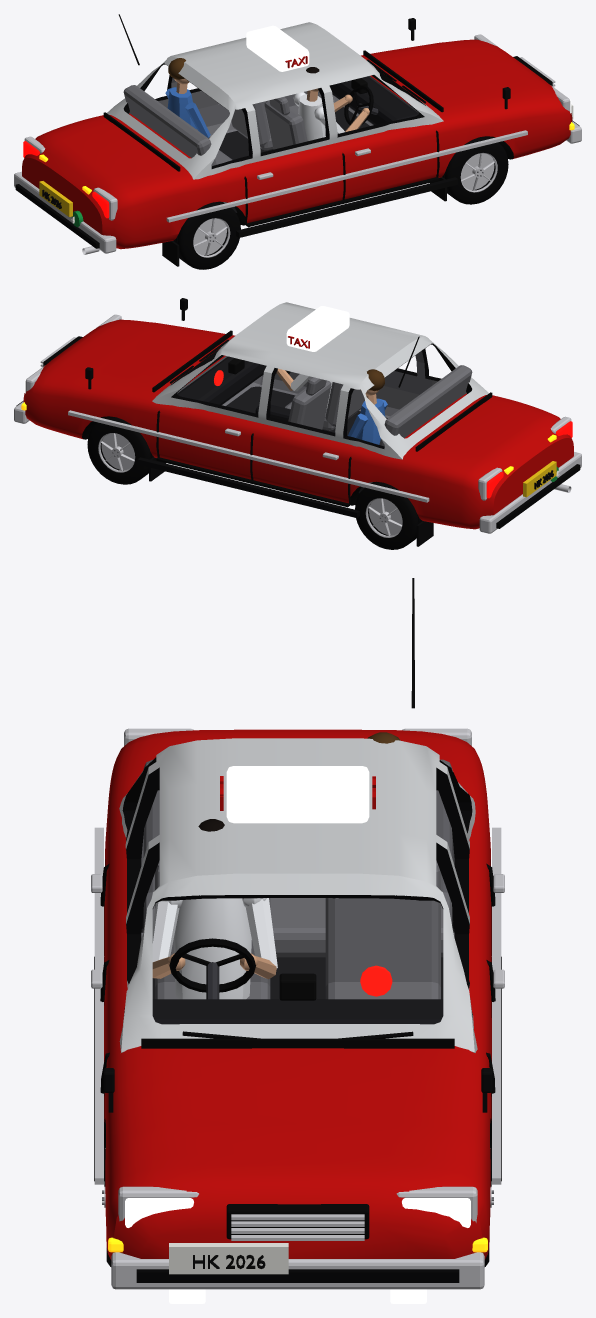
File: taxi.glb
3 renders of one model, top to bottom at view 1: azimuth 30°, elevation 25°; view 2: azimuth 150°, elevation 25°; view 3: azimuth 270°, elevation 25°, orthographic. The views are drawn at different scales.
Parts seen in each view (by area): view 1: body; view 2: body; view 3: body.
Boxes of the visible parts, x1=… form: body: x1=14, y1=14, x2=581, y2=269; body: x1=14, y1=298, x2=581, y2=549; body: x1=91, y1=578, x2=504, y2=1303.
Bounding box in the file's own units: 4.94 × 1.95 × 1.8.
